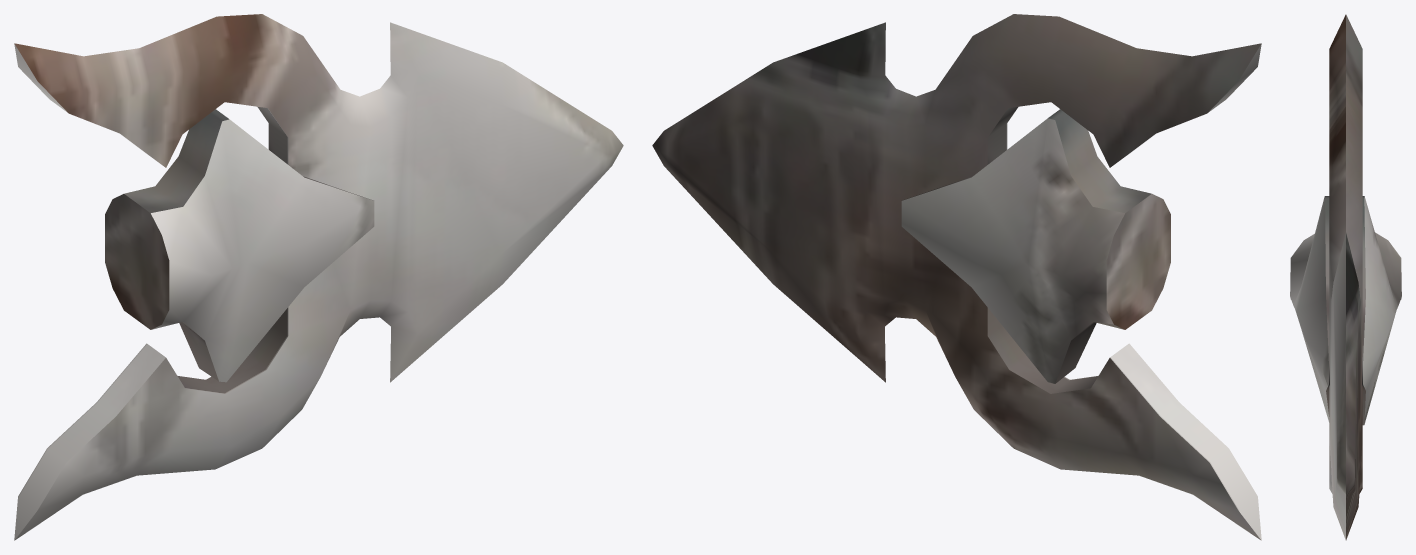
3 views of the same model, side by side, from view 1: azimuth 30°, elevation 25°; view 2: azimuth 150°, elevation 25°; view 3: azimuth 270°, elevation 25° (orthographic). The views are drawn at different scales.
Parts seen in each view (by area): view 1: SM_BroadheadArrowHead_Barbed_01_LOD0; view 2: SM_BroadheadArrowHead_Barbed_01_LOD0; view 3: SM_BroadheadArrowHead_Barbed_01_LOD0.
Part boxes in pixels (x1,y1,x2,y2): SM_BroadheadArrowHead_Barbed_01_LOD0: (14,14,623,540); SM_BroadheadArrowHead_Barbed_01_LOD0: (652,14,1261,540); SM_BroadheadArrowHead_Barbed_01_LOD0: (1290,14,1401,540).
Bounding box in the file's own units: 0.1502 × 0.1172 × 0.0278.
